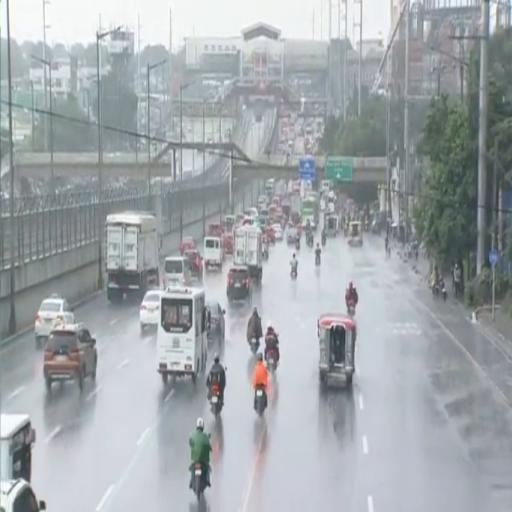bus: (157, 287, 207, 383)
car: (43, 324, 97, 391), (35, 294, 74, 346), (0, 478, 46, 511), (140, 291, 162, 331), (227, 266, 251, 302), (206, 301, 225, 343), (184, 249, 202, 281), (180, 236, 196, 254), (222, 233, 233, 254), (287, 227, 298, 244), (272, 224, 282, 241)
motorcycle: (194, 463, 206, 502), (210, 383, 222, 418), (255, 387, 266, 417), (267, 350, 277, 375), (249, 336, 259, 355), (439, 281, 447, 301), (347, 300, 355, 316), (432, 283, 440, 298), (262, 246, 269, 260), (307, 234, 314, 247), (291, 267, 297, 280), (315, 253, 320, 266), (295, 239, 300, 250), (322, 235, 326, 246)
truck: (106, 213, 160, 301), (233, 226, 263, 282), (301, 196, 318, 229)
